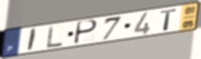4: (132, 11, 151, 36)
7: (101, 16, 124, 41)
I: (26, 27, 39, 52)
L: (46, 25, 64, 50)
P: (73, 19, 99, 46)
T: (160, 8, 178, 32)
